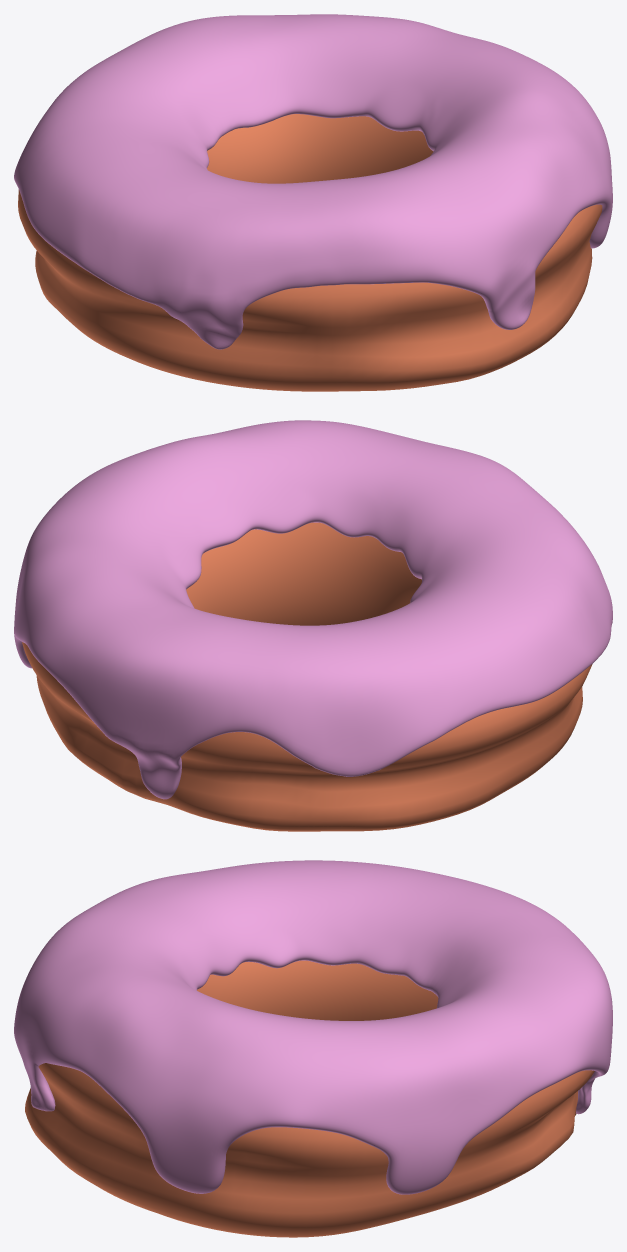
The picture shows the model from 3 angles, top to bottom: view 1: azimuth 30°, elevation 25°; view 2: azimuth 150°, elevation 25°; view 3: azimuth 270°, elevation 25°; orthographic projection. The views are drawn at different scales.
Visible parts, largest first — view 1: Icing, Donut; view 2: Icing, Donut; view 3: Icing, Donut.
Boxes of the visible parts, x1=… form: Icing: x1=14, y1=14, x2=612, y2=349; Donut: x1=18, y1=114, x2=602, y2=391; Icing: x1=14, y1=420, x2=612, y2=799; Donut: x1=22, y1=522, x2=592, y2=831; Icing: x1=14, y1=860, x2=612, y2=1194; Donut: x1=25, y1=960, x2=594, y2=1237.
Size of what is drawn, in the model's own units: 0.1474 by 0.0572 by 0.1496.
